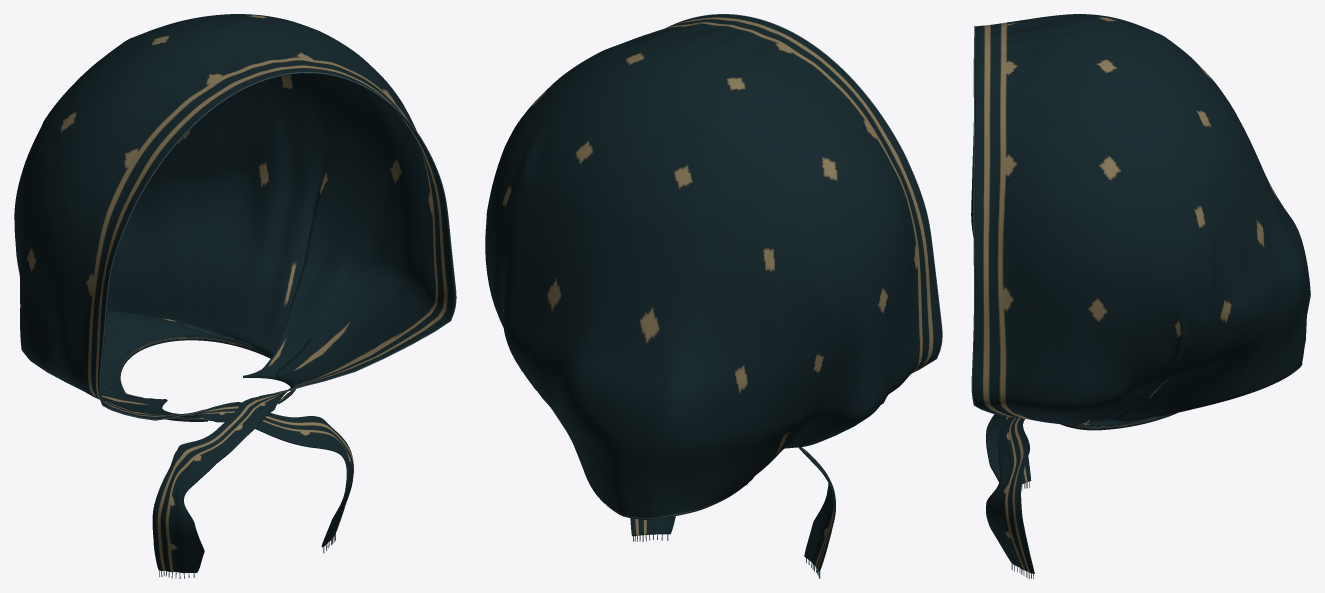
File: Feminine-ponytail-open-pashmina249-headgear.glb
The picture shows the model from 3 angles, left to right: view 1: azimuth 30°, elevation 25°; view 2: azimuth 150°, elevation 25°; view 3: azimuth 270°, elevation 25°; orthographic projection. The views are drawn at different scales.
Parts seen in each view (by area): view 1: 226 headgear / Headwear / continuous woven pashmina239, 226 headgear / Headwear / face edge239; view 2: 226 headgear / Headwear / continuous woven pashmina239, 226 headgear / Headwear / face edge239; view 3: 226 headgear / Headwear / continuous woven pashmina239, 226 headgear / Headwear / face edge239.
Boxes of the visible parts, x1,y1,x2,y2 form: 226 headgear / Headwear / continuous woven pashmina239: (14, 14, 455, 573); 226 headgear / Headwear / face edge239: (99, 72, 456, 420); 226 headgear / Headwear / continuous woven pashmina239: (485, 14, 941, 572); 226 headgear / Headwear / face edge239: (665, 14, 942, 372); 226 headgear / Headwear / continuous woven pashmina239: (971, 14, 1310, 573); 226 headgear / Headwear / face edge239: (971, 26, 1015, 417).
Size of the model in its own units: 1.02 by 1.37 by 0.8331.
Materials: 3 (1 with a texture image).
